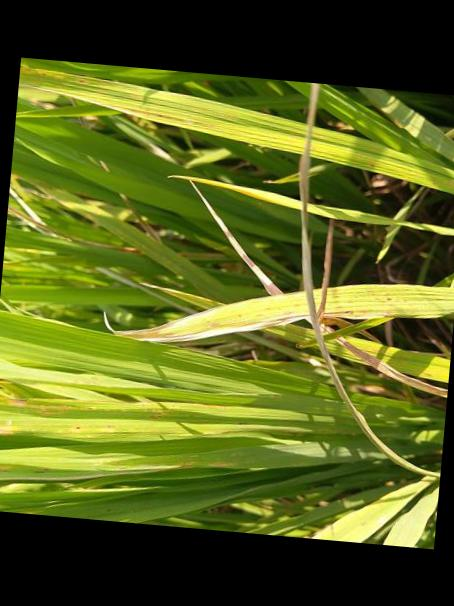Leaf Blight: (299, 82, 435, 476), (103, 290, 312, 346), (189, 180, 282, 296)
